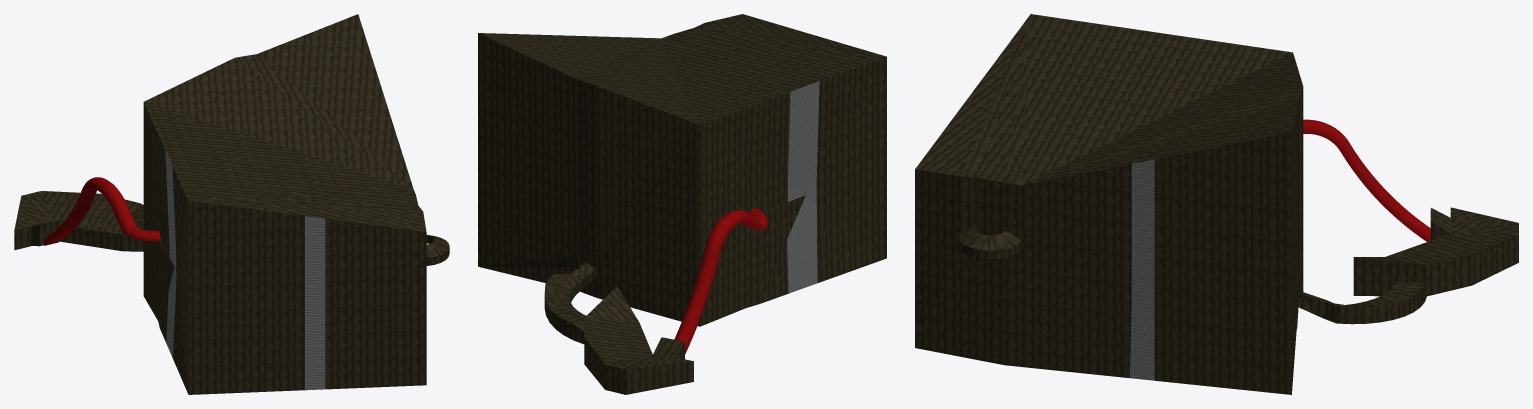
The picture shows the model from 3 angles, left to right: view 1: azimuth 30°, elevation 25°; view 2: azimuth 150°, elevation 25°; view 3: azimuth 270°, elevation 25°; orthographic projection. The views are drawn at different scales.
Parts seen in each view (by area): view 1: Lava_pit-SKP--mur.001, Lava_pit-SKP--lave.001, Lava_pit-SKP--tuyau.001; view 2: Lava_pit-SKP--mur.001, Lava_pit-SKP--lave.001, Lava_pit-SKP--tuyau.001; view 3: Lava_pit-SKP--mur.001, Lava_pit-SKP--lave.001, Lava_pit-SKP--tuyau.001.
Boxes of the visible parts, x1,y1,x2,y2 form: Lava_pit-SKP--mur.001: (14,14,449,394); Lava_pit-SKP--lave.001: (165,150,325,390); Lava_pit-SKP--tuyau.001: (44,177,160,245); Lava_pit-SKP--mur.001: (478,14,886,394); Lava_pit-SKP--lave.001: (787,81,819,293); Lava_pit-SKP--tuyau.001: (674,208,767,354); Lava_pit-SKP--mur.001: (915,14,1518,394); Lava_pit-SKP--lave.001: (1130,159,1154,380); Lava_pit-SKP--tuyau.001: (1303,119,1430,241).
Size of the model in its own units: 78887 by 61649 by 125572.
11 materials, 11 textured.
